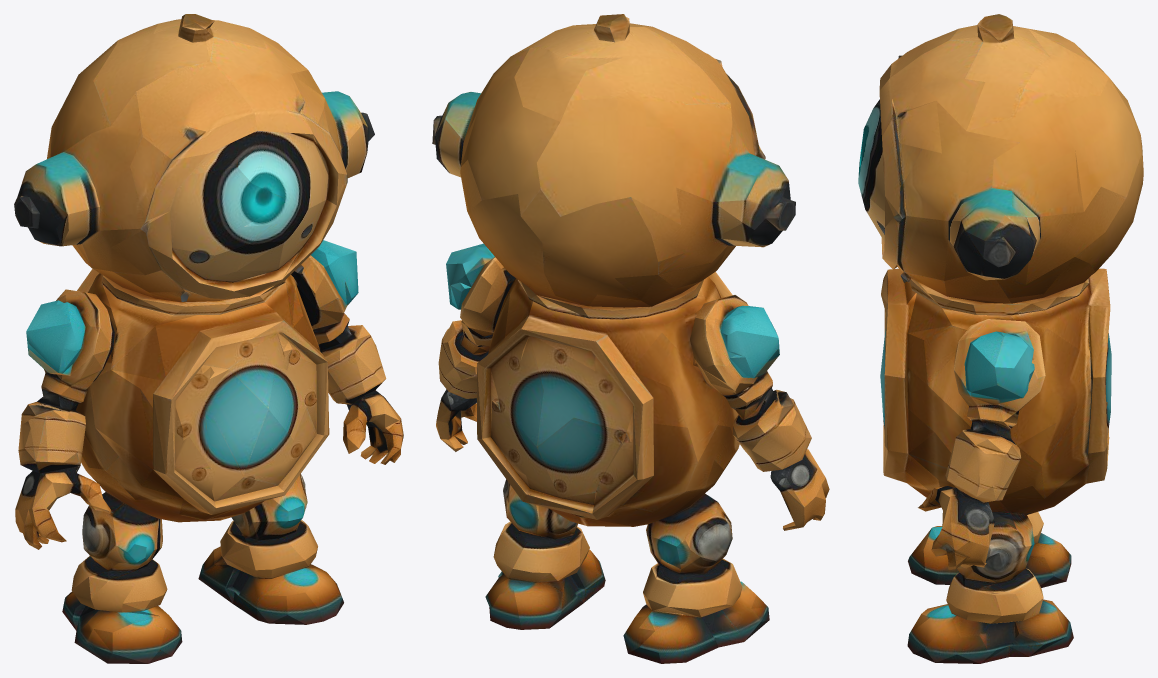
Rendered from automato-cristal.glb.
3 renders of one model, left to right at view 1: azimuth 30°, elevation 25°; view 2: azimuth 150°, elevation 25°; view 3: azimuth 270°, elevation 25°, orthographic.
Bounding box in the file's own units: 1.27 × 1.9 × 0.8382.
Materials: 1 (1 with a texture image).
